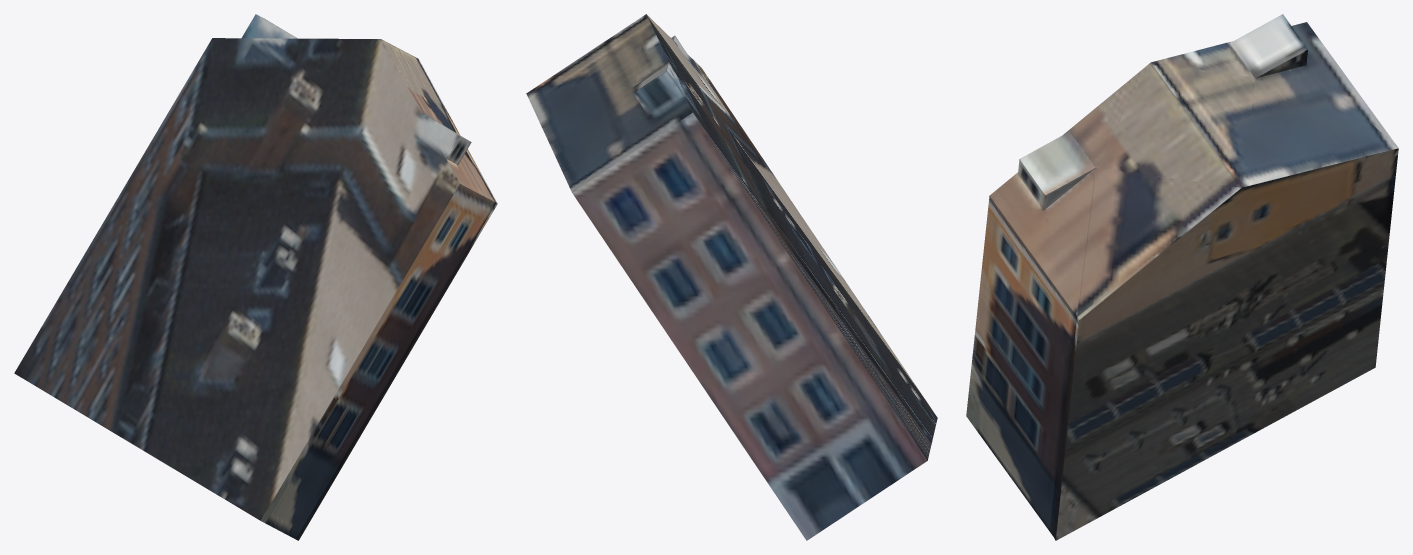
3 views of the same model, side by side, from view 1: azimuth 30°, elevation 25°; view 2: azimuth 150°, elevation 25°; view 3: azimuth 270°, elevation 25° (orthographic). The views are drawn at different scales.
Parts seen in each view (by area): view 1: BAG_0599100000650062 (×5); view 2: BAG_0599100000650062 (×6); view 3: BAG_0599100000650062 (×8).
Boxes of the visible parts, x1,y1,x2,y2 form: BAG_0599100000650062 (×5): (14,14,497,540); BAG_0599100000650062 (×6): (526,14,937,540); BAG_0599100000650062 (×8): (966,14,1398,540).
Size of the model in its own units: 18.6 by 19.85 by 13.99.
Materials: 1 (1 with a texture image).
